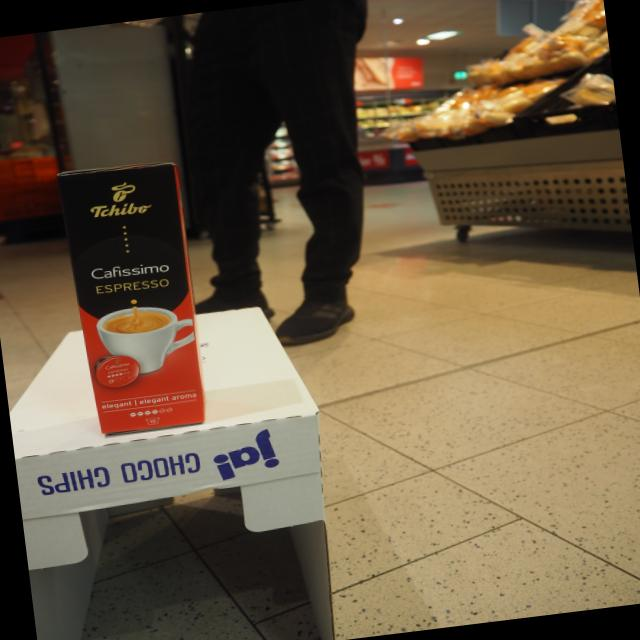Simo Es Elegant: (52, 156, 210, 442)
